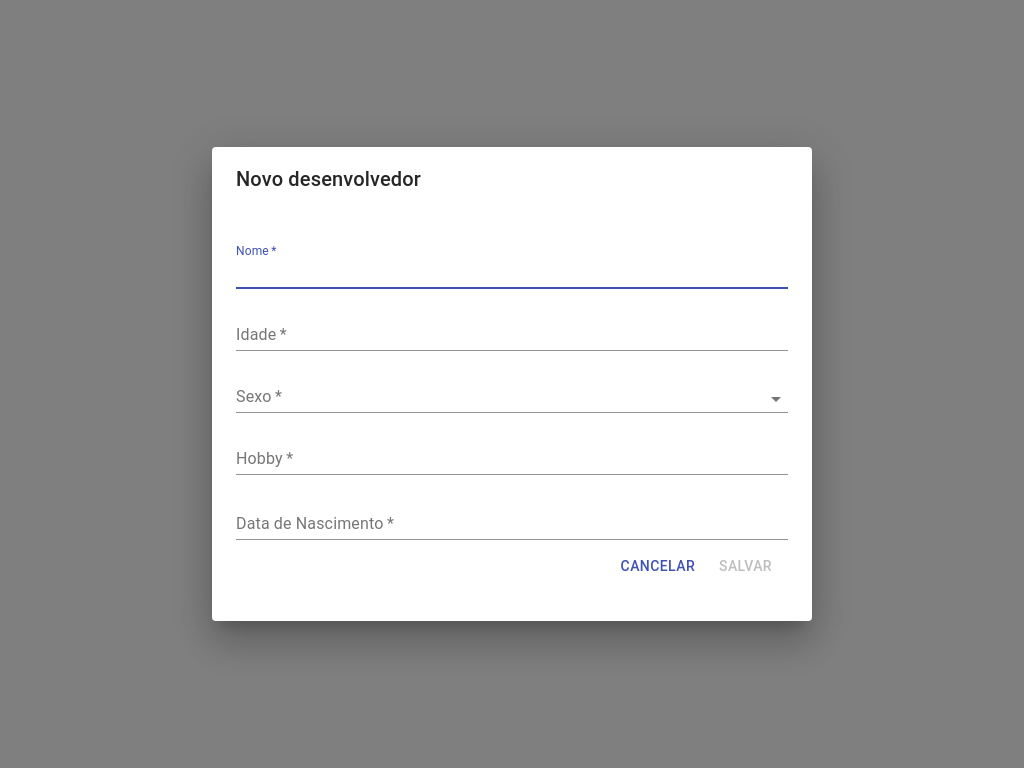
it: <DeveloperFormModal /> › Deve mostrar a mensagem de campo obrigatório quando o campo estiver vazio e 'dirty'
Step 1. Type "xpto" into the field named "name" → (512, 275), box x1=236 y1=260 x2=788 y2=289
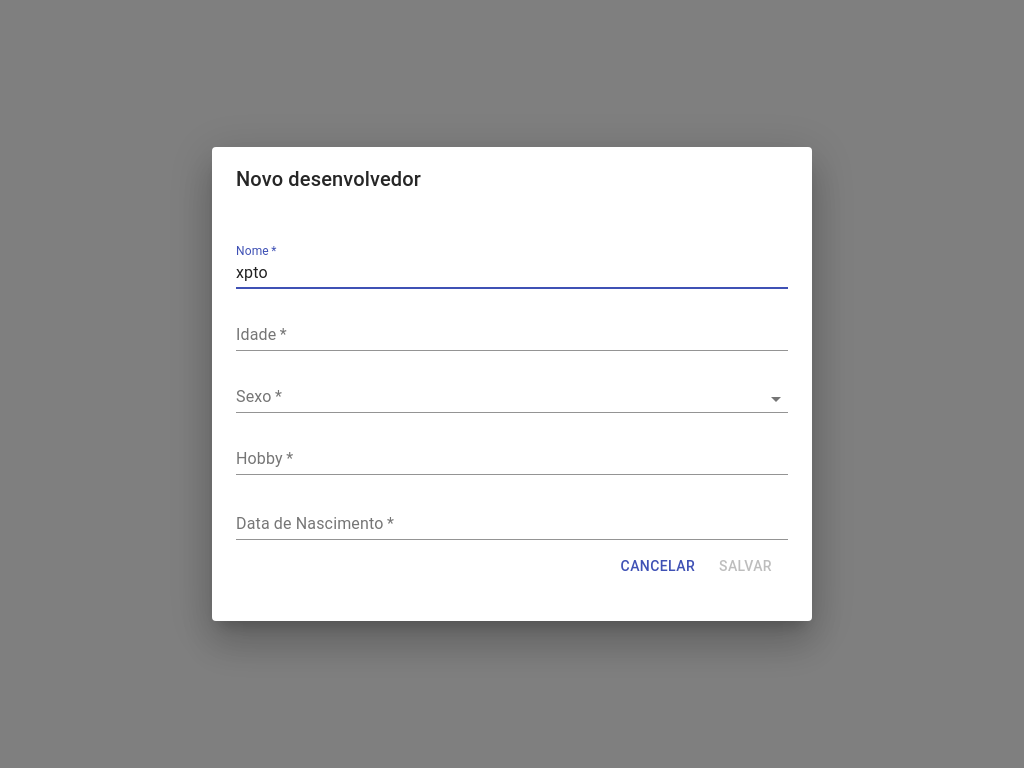
Step 2. Clear the field named "name" → (512, 275), box x1=236 y1=260 x2=788 y2=289
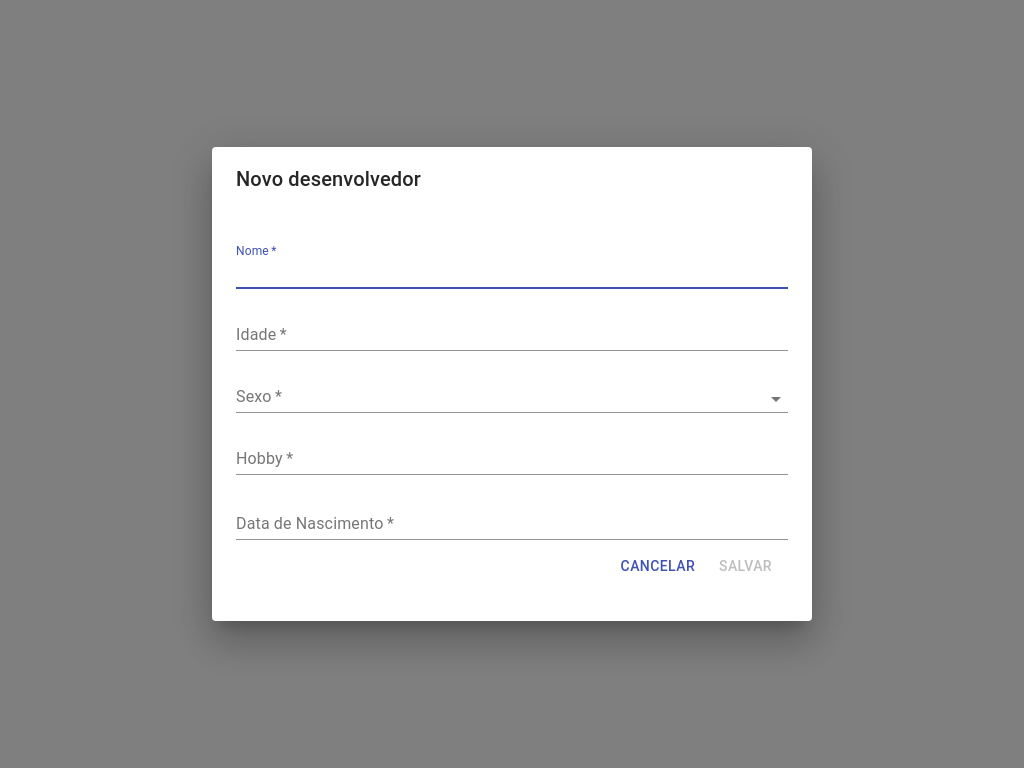
Step 3. Type "12" into the number field named "age" → (512, 337), box x1=236 y1=322 x2=788 y2=351
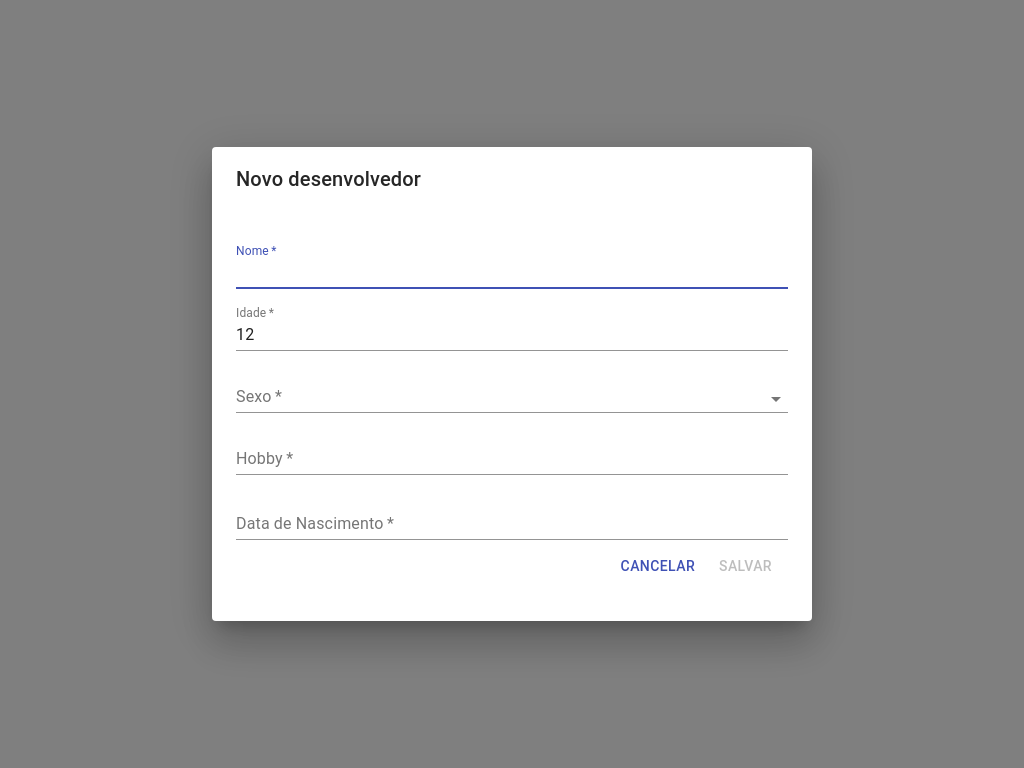
Step 4. Clear the number field named "age" → (512, 337), box x1=236 y1=322 x2=788 y2=351
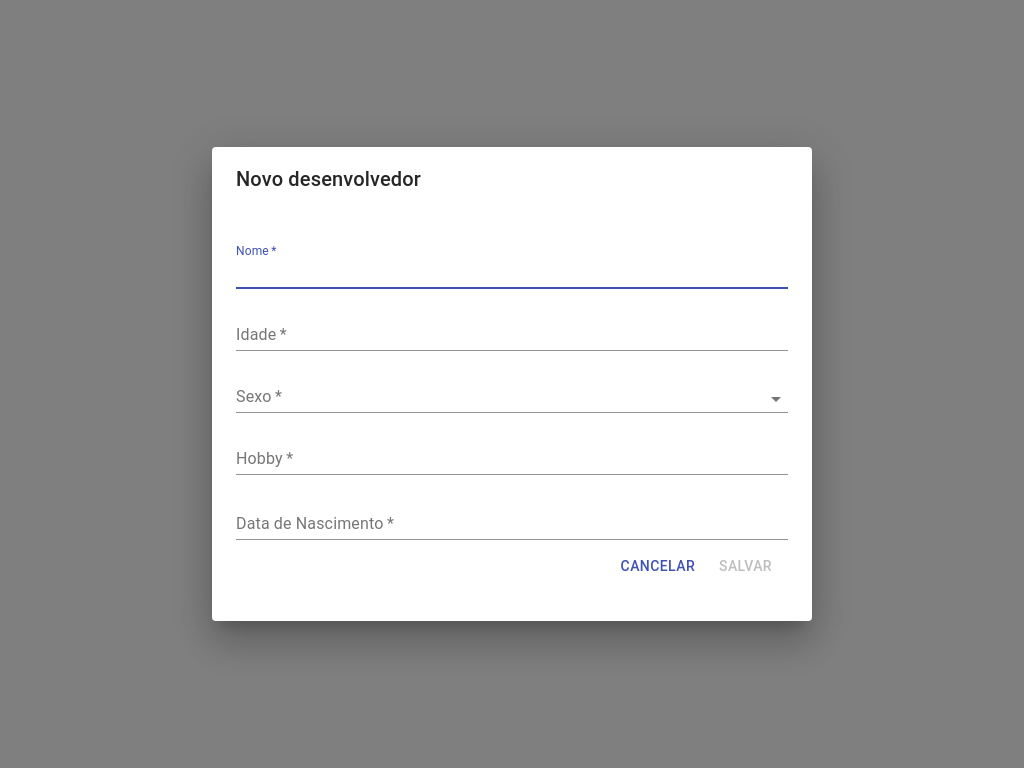
Step 5. Type "hobby xpto" into the field named "hobby" → (512, 461), box x1=236 y1=446 x2=788 y2=475
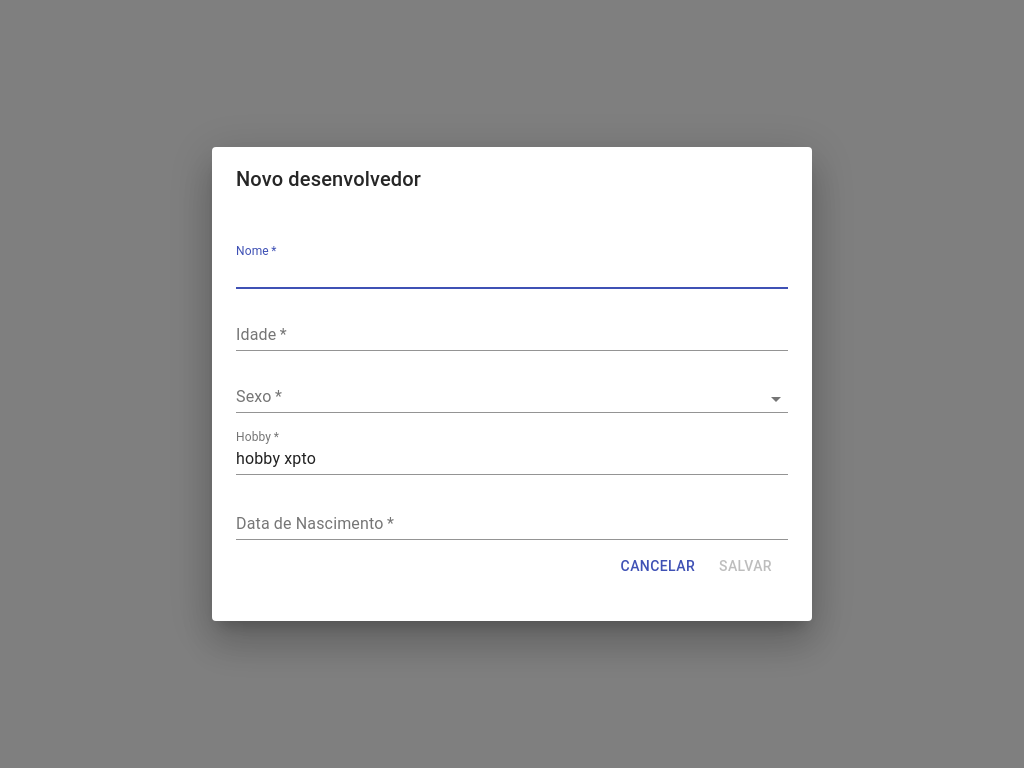
Step 6. Clear the field named "hobby" → (512, 461), box x1=236 y1=446 x2=788 y2=475
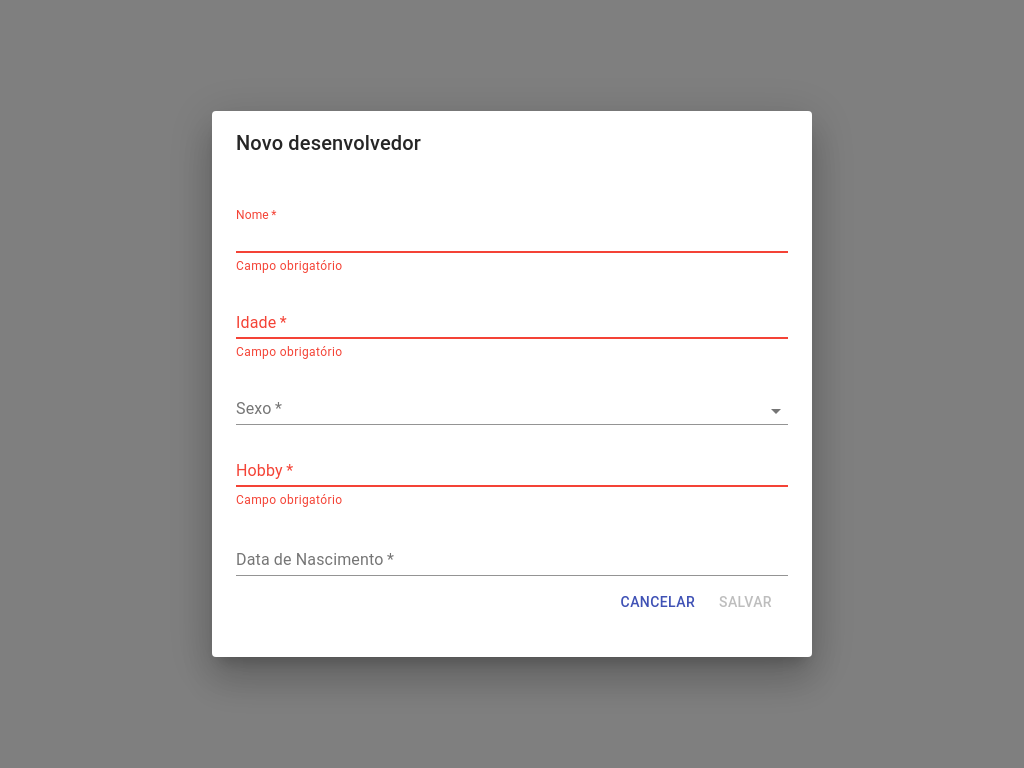
Now the text "Campo obrigatório" is shown 3 times, box x1=236 y1=259 x2=342 y2=273; x1=236 y1=345 x2=342 y2=359; x1=236 y1=493 x2=342 y2=507
